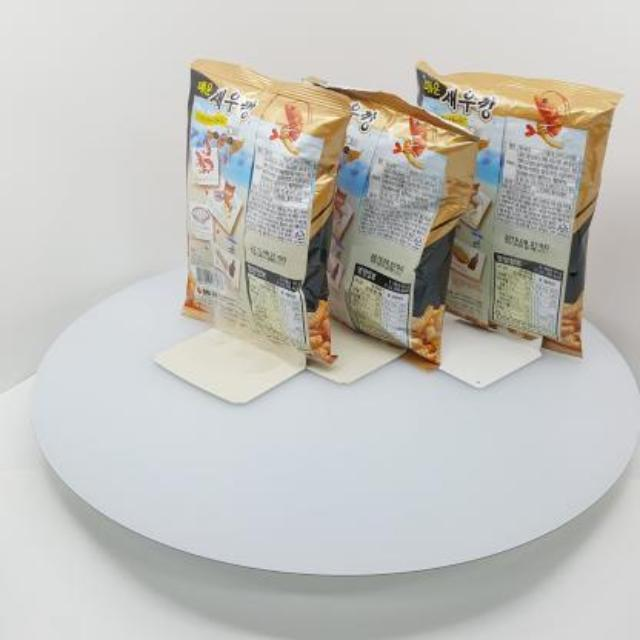snack_bag: (176, 46, 624, 378)
